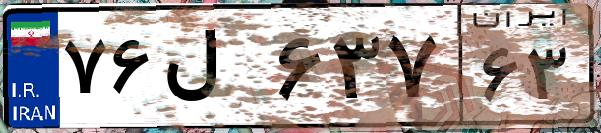3: (330, 28, 385, 110), (525, 38, 570, 115)
6: (270, 28, 330, 110), (475, 38, 525, 113), (110, 28, 158, 98)
7: (385, 28, 445, 110), (57, 26, 110, 100)
ل: (158, 20, 270, 120)
